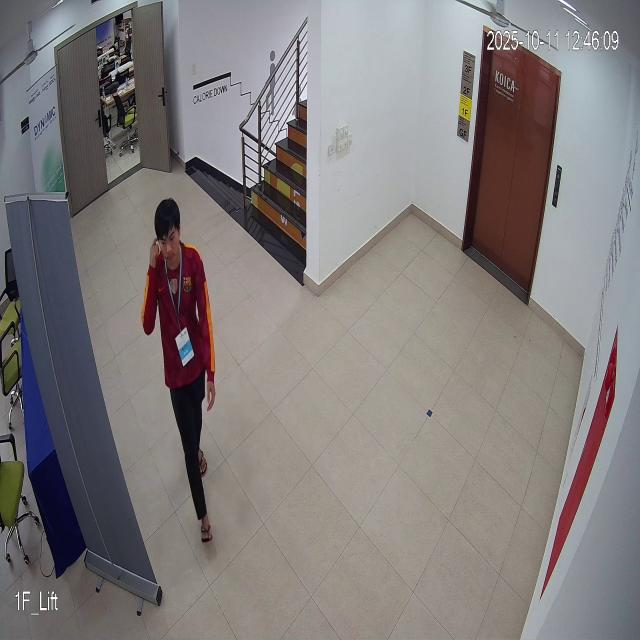face: (148, 188, 186, 270)
